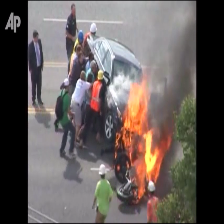fire_h: (120, 67, 171, 203)
fire_l: (113, 133, 121, 159), (117, 164, 120, 170), (126, 161, 129, 167)
